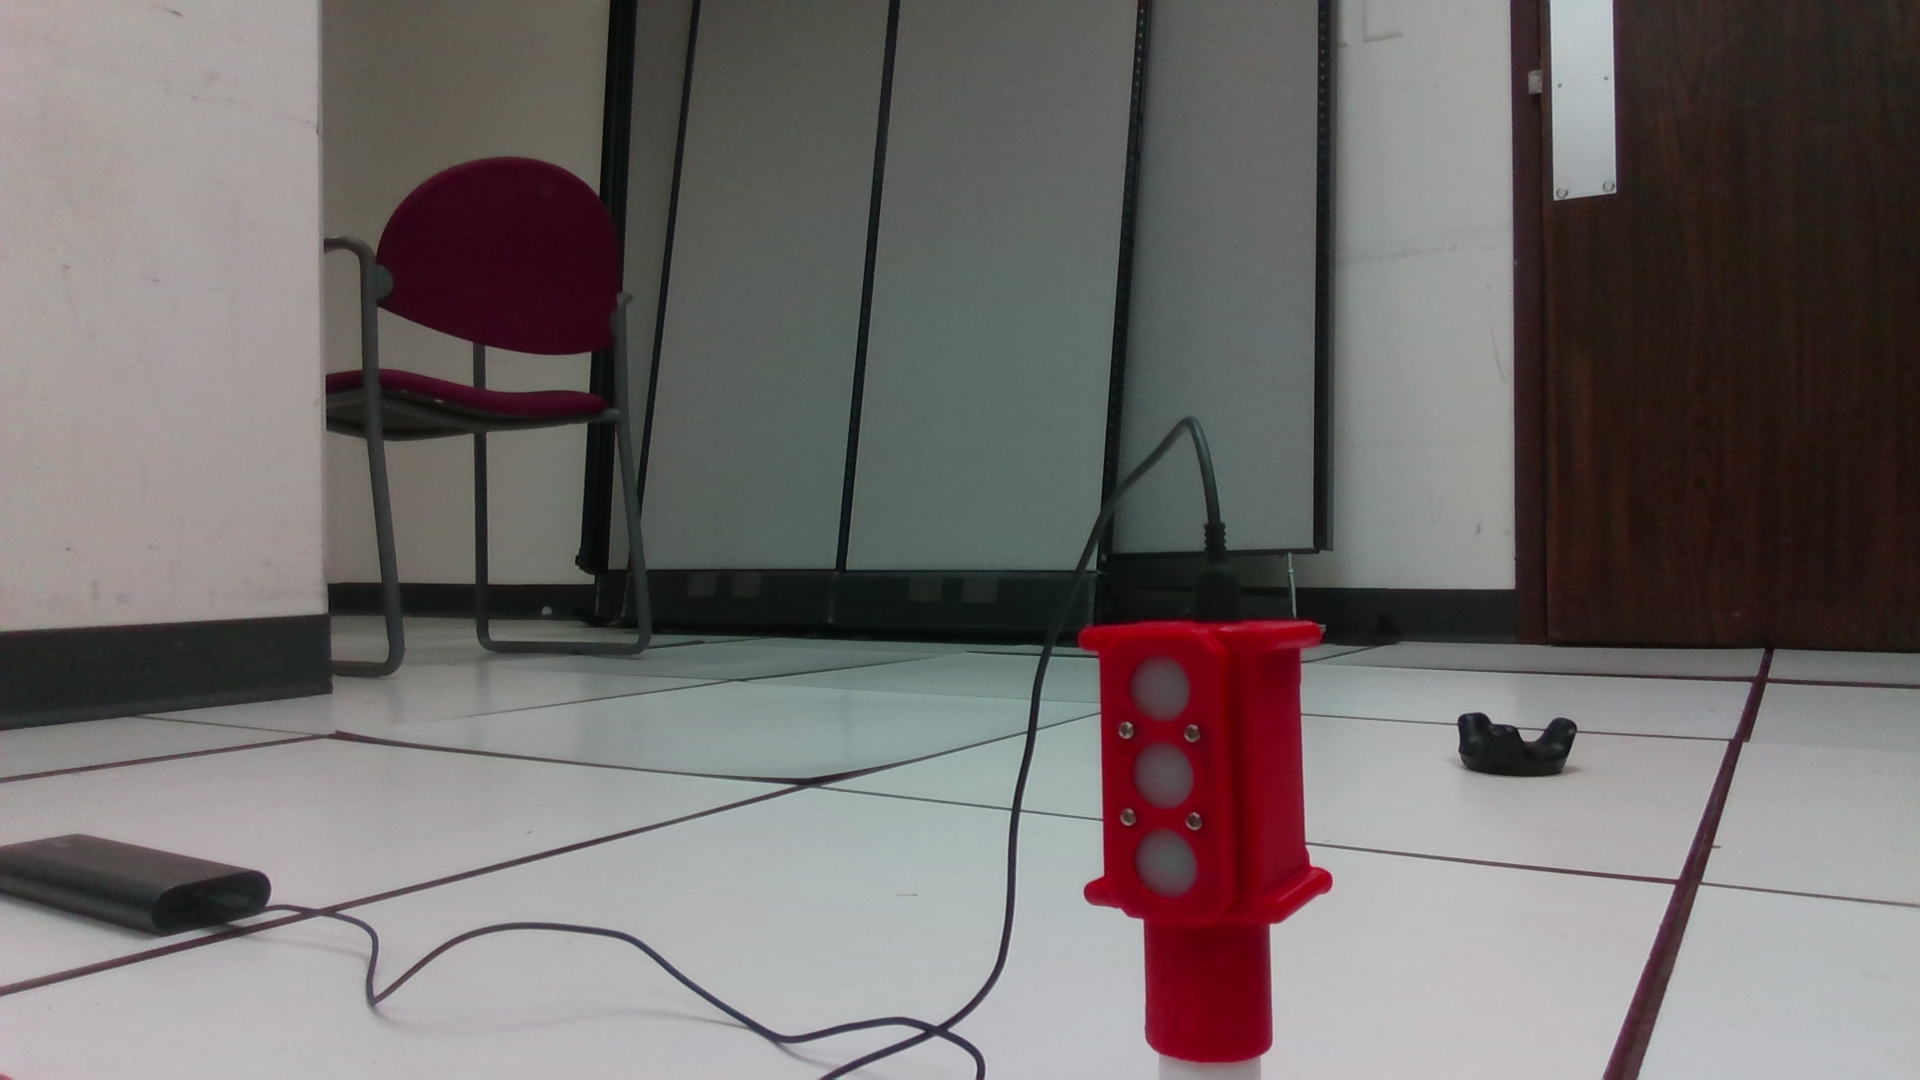stoplight: (1075, 620, 1335, 1067)
